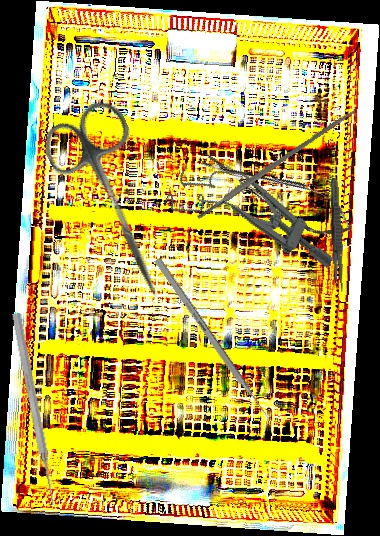Dressing Forceps: (328, 177, 346, 293)
Iris Scissors: (35, 94, 199, 314)
Micro Scissor: (196, 137, 359, 248)
Pusher: (153, 257, 276, 427), (9, 312, 60, 507)
Scalpel Handle: (194, 107, 357, 221)
Speculum: (162, 147, 350, 282)
